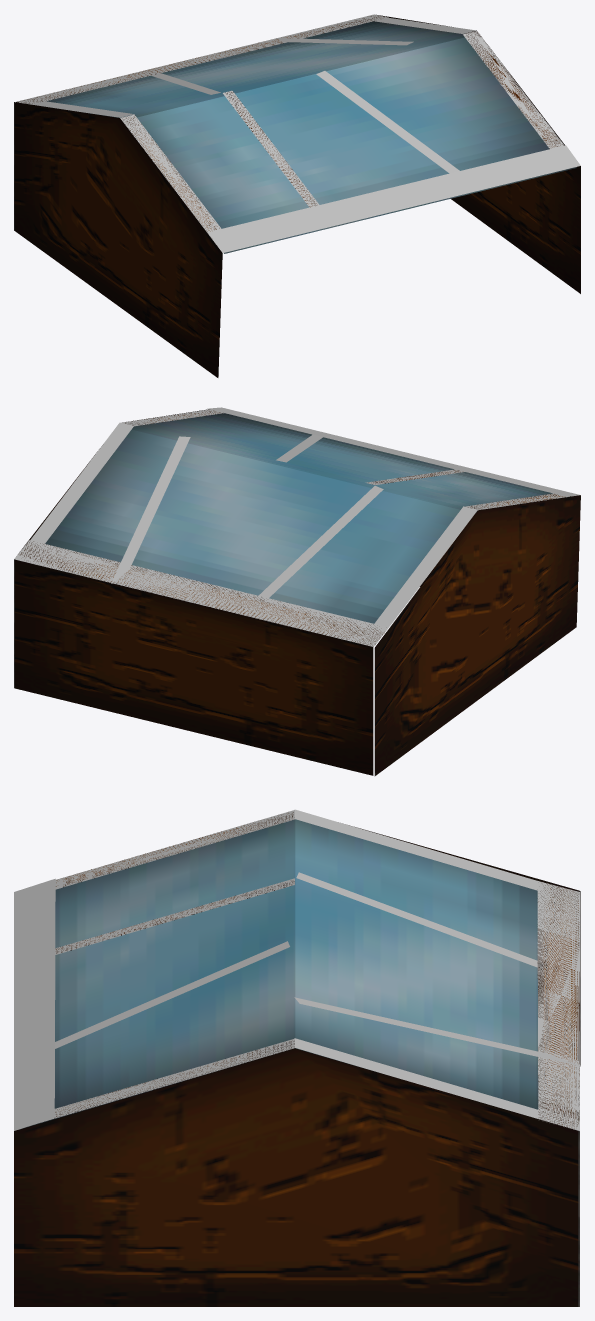
File: Dachluke_Klein_1472.glb
3 renders of one model, top to bottom at view 1: azimuth 30°, elevation 25°; view 2: azimuth 150°, elevation 25°; view 3: azimuth 270°, elevation 25°, orthographic. The views are drawn at different scales.
Parts seen in each view (by area): view 1: pPlaneShape91, pPlaneShape90, pPlaneShape78, pPlaneShape87, pPlaneShape77 (×2), pPlaneShape82 (×2), pPlaneShape79 (×2), pPlaneShape81, pPlaneShape80, pPlaneShape84, pPlaneShape83, pPlaneShape86; view 2: pPlaneShape91, pPlaneShape88, pPlaneShape90, pPlaneShape77 (×2), pPlaneShape86, pPlaneShape83, pPlaneShape78, pPlaneShape84, pPlaneShape85, pPlaneShape79, pPlaneShape82; view 3: pPlaneShape87, pPlaneShape91, pPlaneShape77 (×2), pPlaneShape78, pPlaneShape79 (×2), pPlaneShape86, pPlaneShape83, pPlaneShape82, pPlaneShape85, pPlaneShape81, pPlaneShape80, pPlaneShape84.
Boxes of the visible parts, left/top/right/bottom form: pPlaneShape91: left=47, top=21, right=576, bottom=253; pPlaneShape90: left=14, top=102, right=222, bottom=377; pPlaneShape78: left=208, top=145, right=580, bottom=252; pPlaneShape87: left=376, top=14, right=580, bottom=293; pPlaneShape77 (×2): left=16, top=14, right=388, bottom=104; pPlaneShape82 (×2): left=463, top=31, right=564, bottom=148; pPlaneShape79 (×2): left=120, top=114, right=221, bottom=248; pPlaneShape81: left=316, top=71, right=459, bottom=173; pPlaneShape80: left=223, top=90, right=319, bottom=207; pPlaneShape84: left=276, top=38, right=413, bottom=45; pPlaneShape83: left=374, top=17, right=476, bottom=33; pPlaneShape86: left=19, top=101, right=134, bottom=117; pPlaneShape91: left=45, top=413, right=552, bottom=623; pPlaneShape88: left=14, top=559, right=373, bottom=775; pPlaneShape90: left=374, top=495, right=580, bottom=776; pPlaneShape77 (×2): left=14, top=540, right=388, bottom=646; pPlaneShape86: left=374, top=506, right=477, bottom=645; pPlaneShape83: left=30, top=422, right=133, bottom=543; pPlaneShape78: left=207, top=407, right=580, bottom=496; pPlaneShape84: left=111, top=436, right=190, bottom=583; pPlaneShape85: left=258, top=486, right=383, bottom=598; pPlaneShape79: left=465, top=493, right=578, bottom=510; pPlaneShape82: left=121, top=409, right=223, bottom=426; pPlaneShape87: left=14, top=1048, right=579, bottom=1306; pPlaneShape91: left=20, top=819, right=538, bottom=1129; pPlaneShape77 (×2): left=537, top=881, right=579, bottom=1130; pPlaneShape78: left=14, top=878, right=55, bottom=1130; pPlaneShape79 (×2): left=55, top=810, right=294, bottom=889; pPlaneShape86: left=294, top=809, right=537, bottom=890; pPlaneShape83: left=294, top=1038, right=538, bottom=1118; pPlaneShape82: left=41, top=1038, right=294, bottom=1122; pPlaneShape85: left=296, top=872, right=537, bottom=967; pPlaneShape81: left=55, top=941, right=289, bottom=1048; pPlaneShape80: left=55, top=878, right=294, bottom=954; pPlaneShape84: left=294, top=997, right=580, bottom=1066.
Size of the model in its own units: 0.2771 by 0.1408 by 0.276.
Materials: 26 (16 with a texture image).
